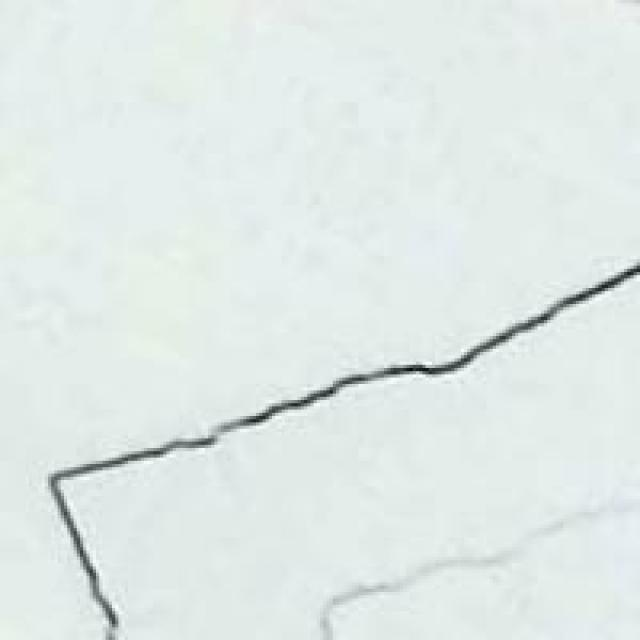crack: (32, 259, 637, 637)
